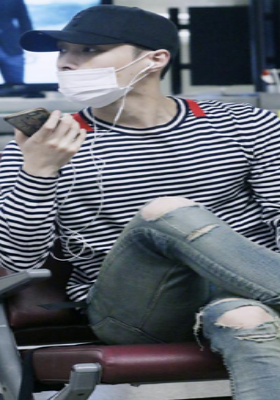mask_weared_incorrect: (55, 43, 151, 108)
